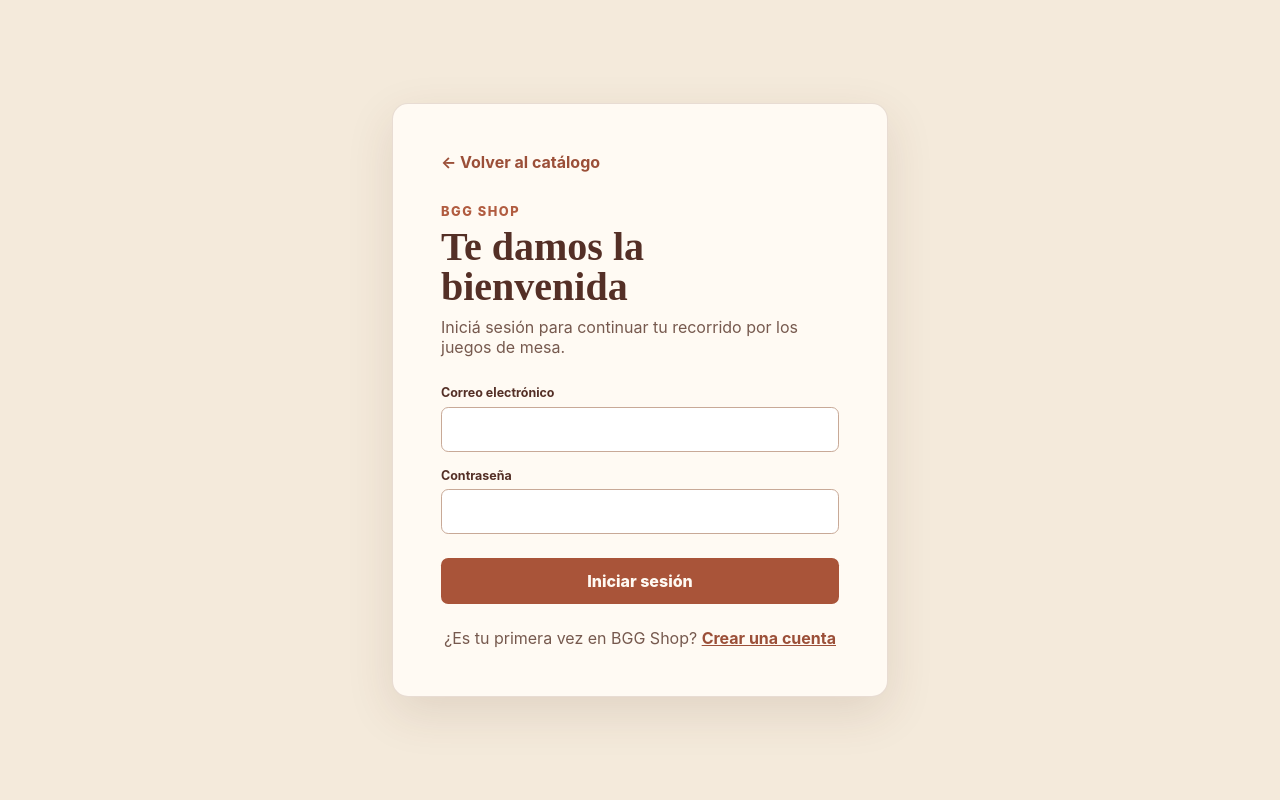
it: Wishlist › returns from login to a protected Wishlist route
Expected: the heading "Te damos la bienvenida" is shown, [441,224,644,309]
Type "buyer@example.test" into the field labelled "Correo electrónico".
click(640, 429); type("buyer@example.test")  # box [441,407,839,452]
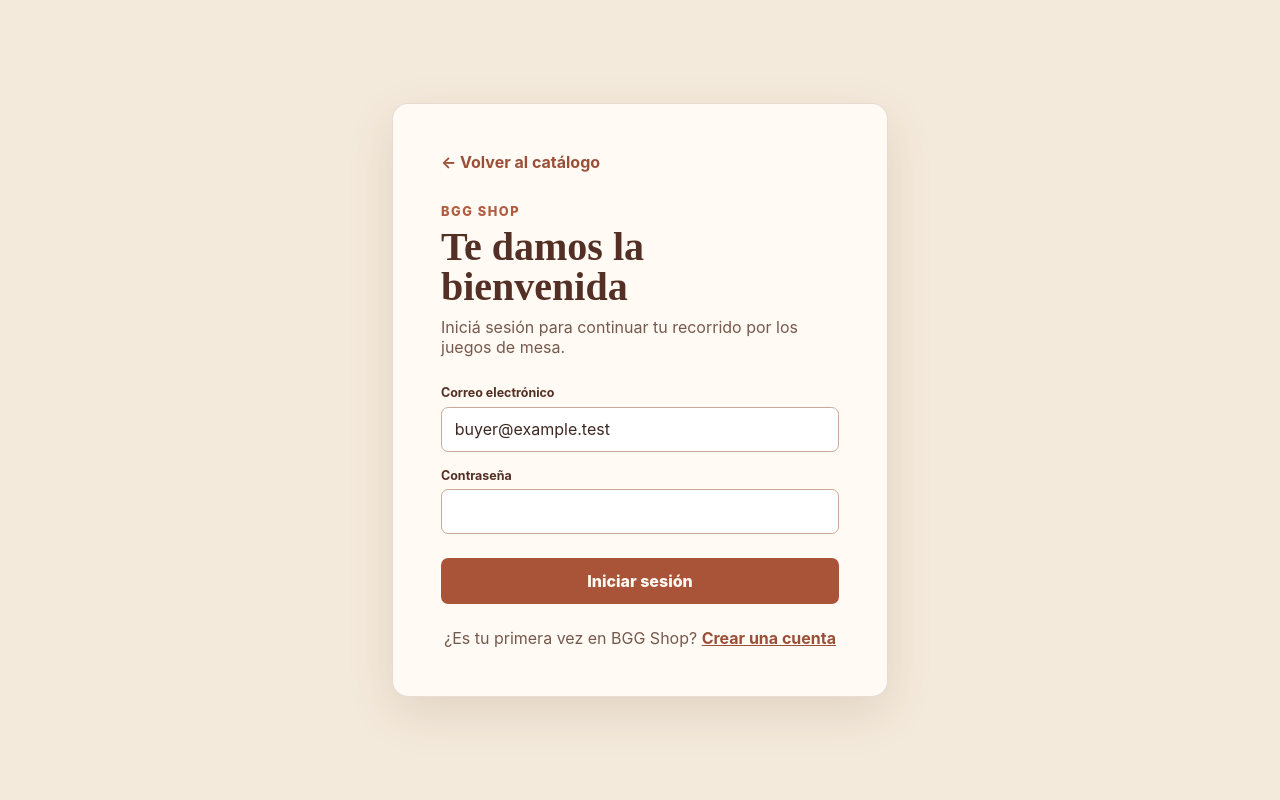
Type "valid-password" into the password field labelled "Contraseña".
click(640, 511); type("valid-password")  # box [441,489,839,534]
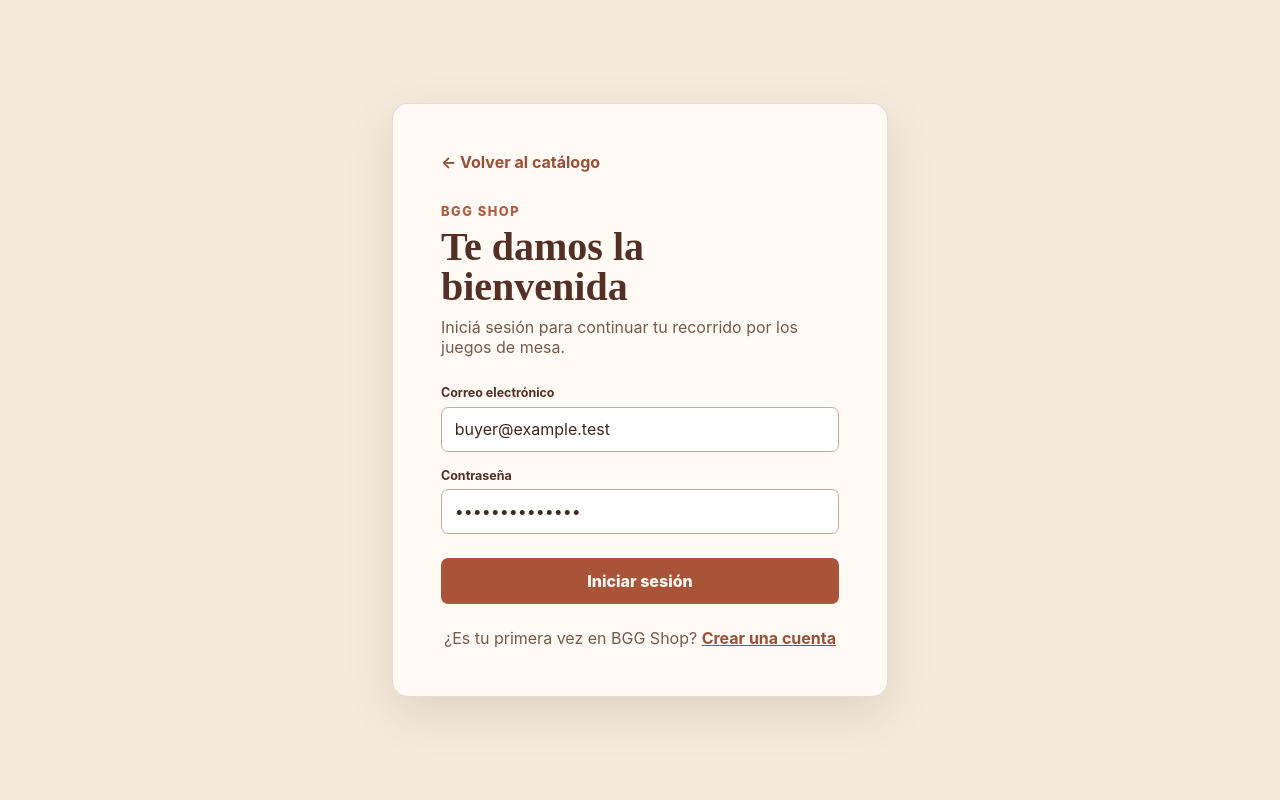
Click the button "Iniciar sesión".
click(640, 581)  # box [441,558,839,604]
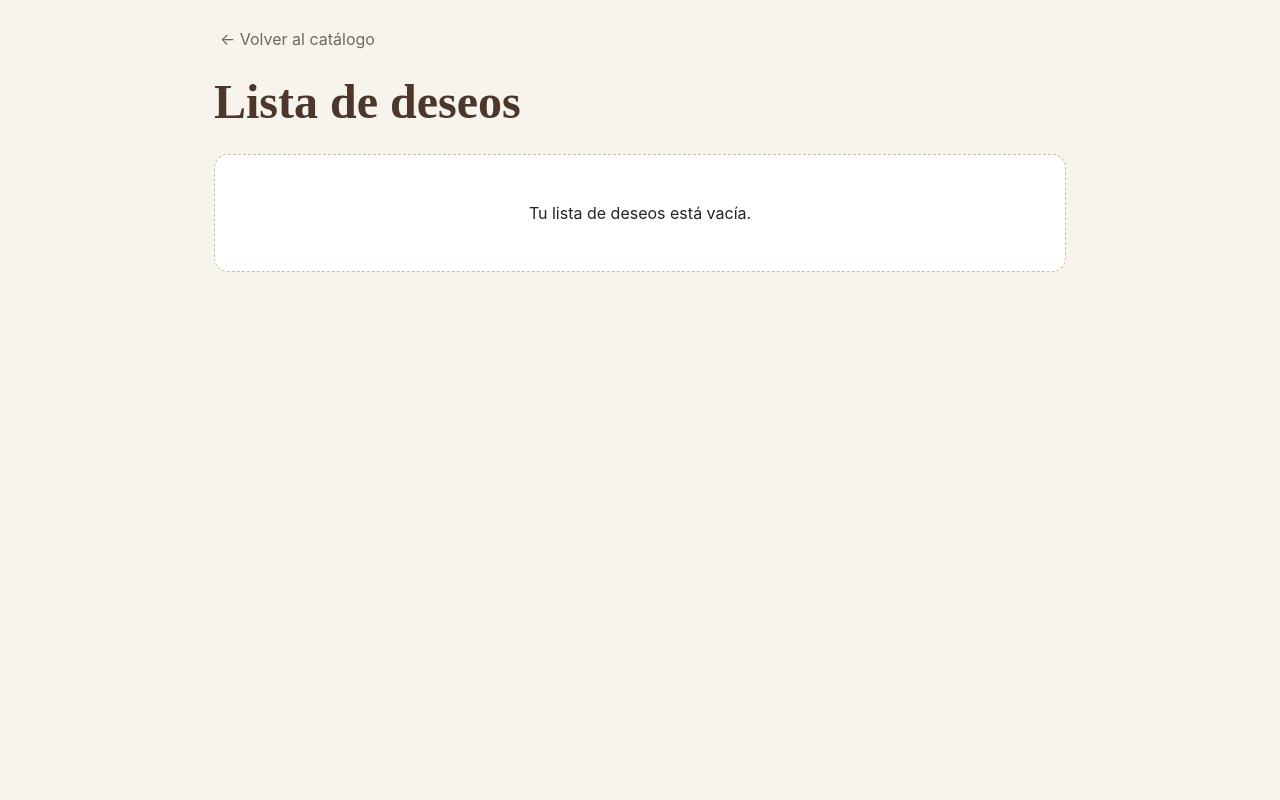
Expected: the heading "Lista de deseos" is shown, [214,75,521,128]
Expected: the text "Tu lista de deseos está vacía." is shown, [214,154,1066,272]
